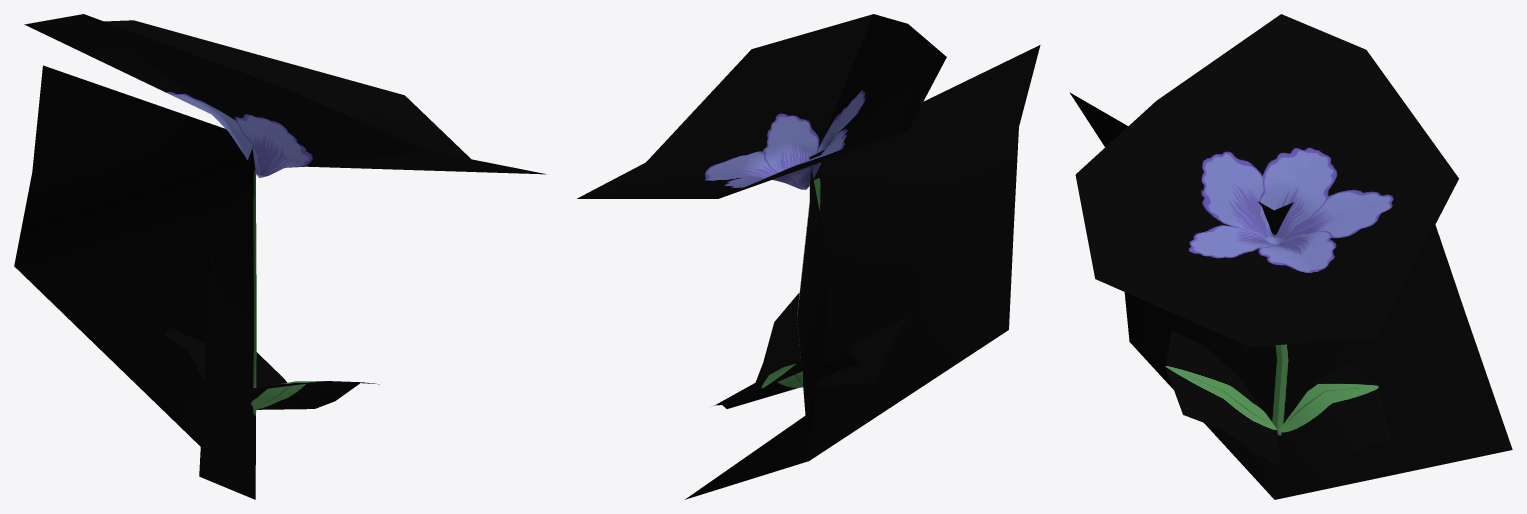
The model's file is PurpleFlower.fbx.
The picture shows the model from 3 angles, left to right: view 1: azimuth 30°, elevation 25°; view 2: azimuth 150°, elevation 25°; view 3: azimuth 270°, elevation 25°; orthographic projection. The views are drawn at different scales.
Parts seen in each view (by area): view 1: pPlane3, pPlane2, pPlane5, pPlane4; view 2: pPlane3, pPlane2, pPlane5, pPlane4; view 3: pPlane2, pPlane3, pPlane4, pPlane5.
Part boxes in pixels (box(x1,y1,x2,y2)): pPlane3: box(14, 65, 256, 499); pPlane2: box(24, 14, 546, 178); pPlane5: box(176, 381, 379, 409); pPlane4: box(164, 327, 286, 387); pPlane3: box(685, 45, 1040, 499); pPlane2: box(577, 14, 946, 198); pPlane5: box(755, 293, 908, 387); pPlane4: box(713, 349, 859, 408); pPlane2: box(1075, 14, 1458, 346); pPlane3: box(1069, 92, 1512, 499); pPlane4: box(1278, 364, 1390, 476); pPlane5: box(1165, 331, 1280, 465).
Bounding box in the file's own units: 199 × 257 × 246.
Materials: 3 (3 with a texture image).
